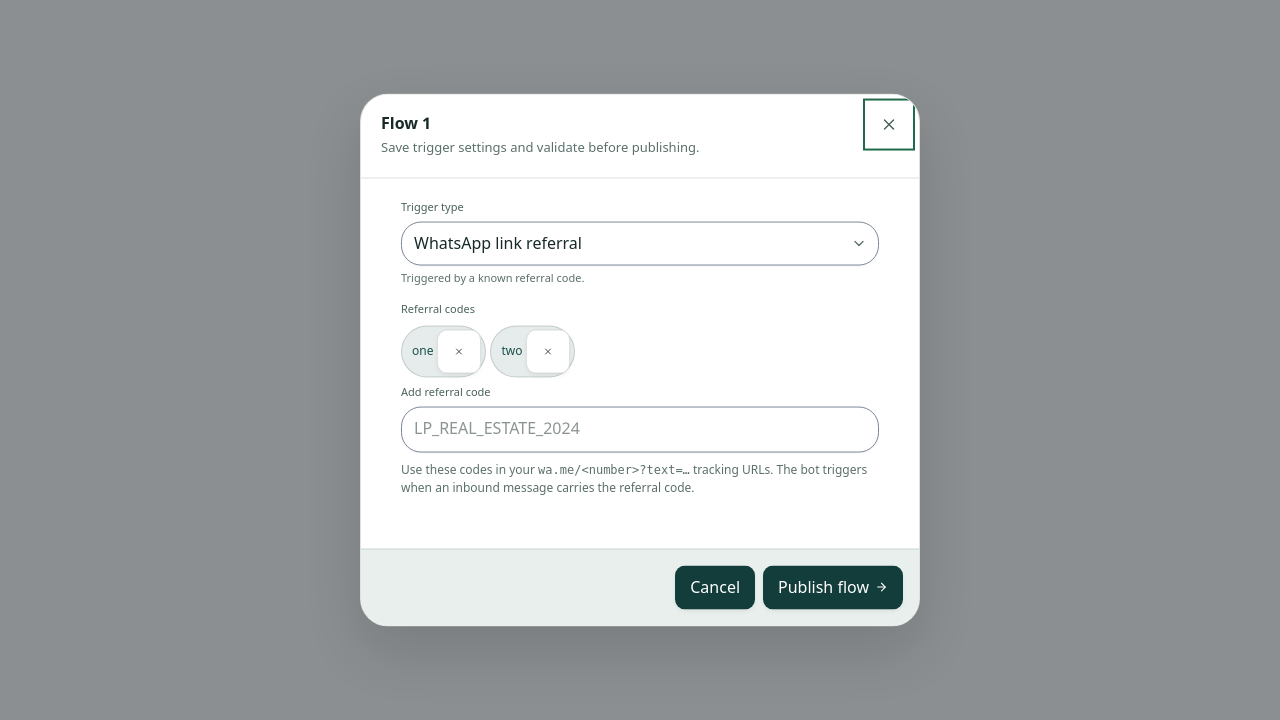
Test: referral_link entry order and unknown config fields survive failed save
Type "three" into the field labelled "Add referral code" at (640, 429), box [402,407,878,451]
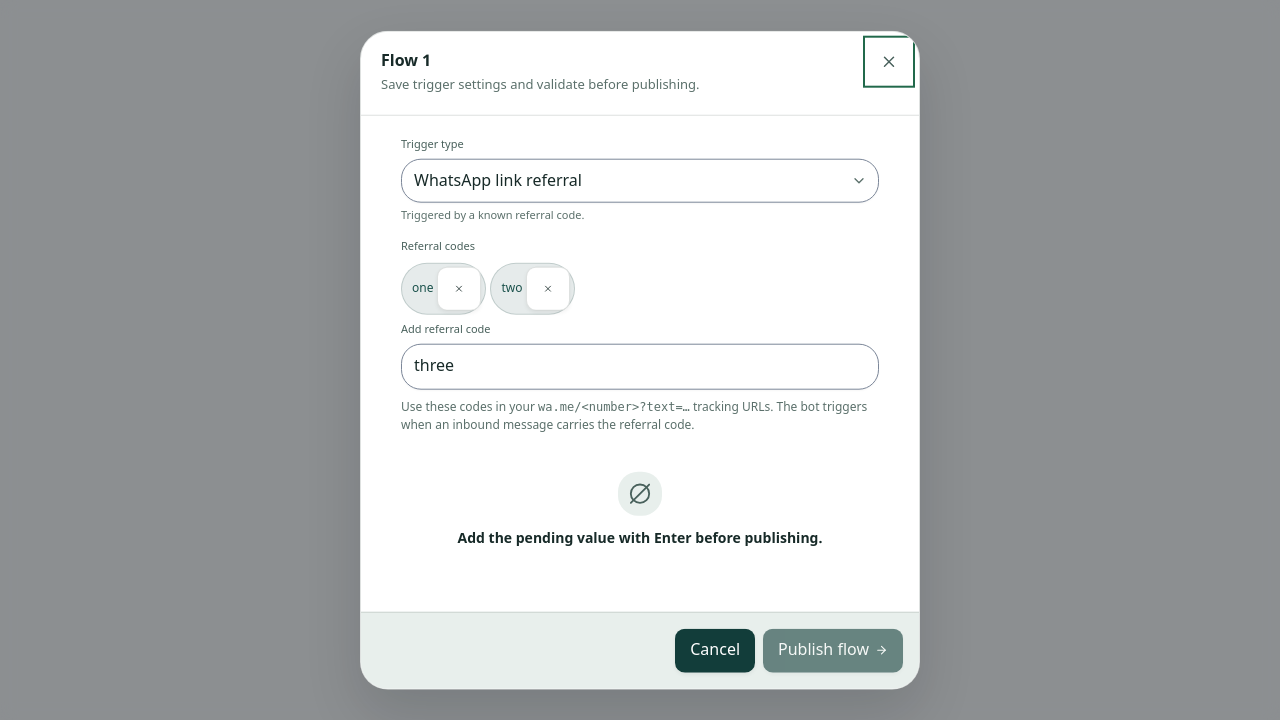
Press Enter in the field labelled "Add referral code", box [402,344,878,388]
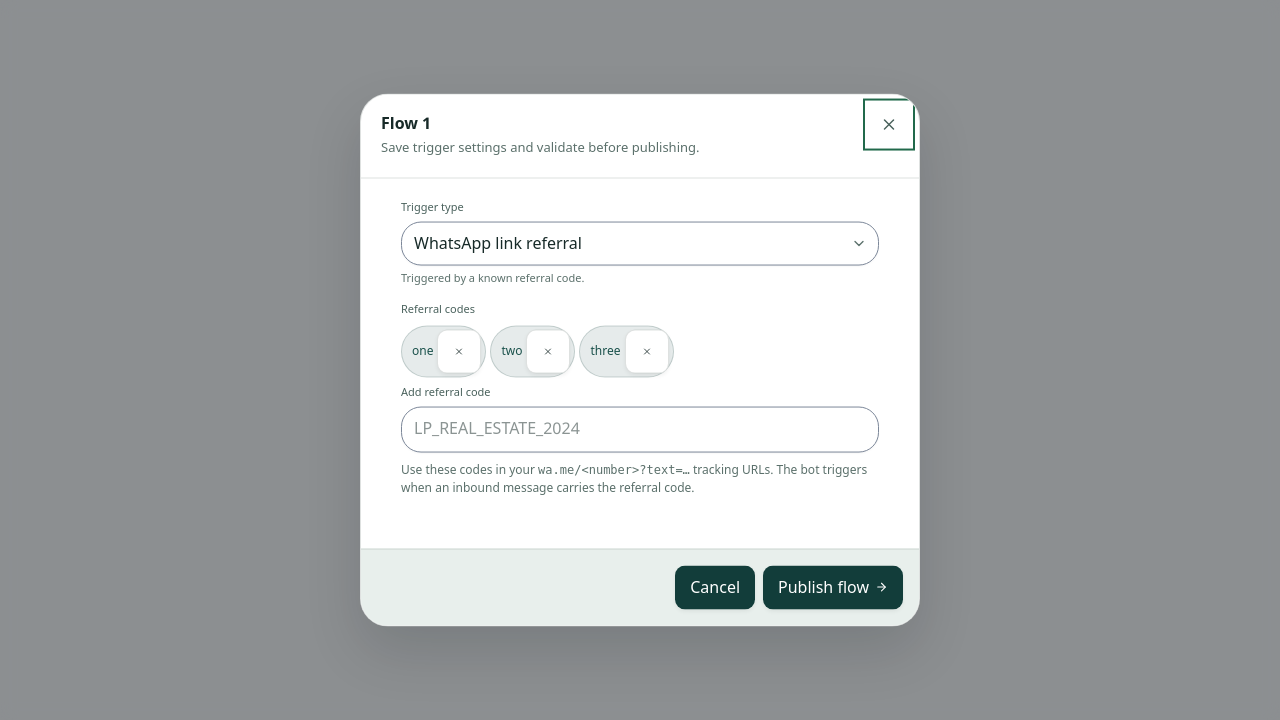
Click the button "Publish flow" at (833, 588), box [763,566,903,610]
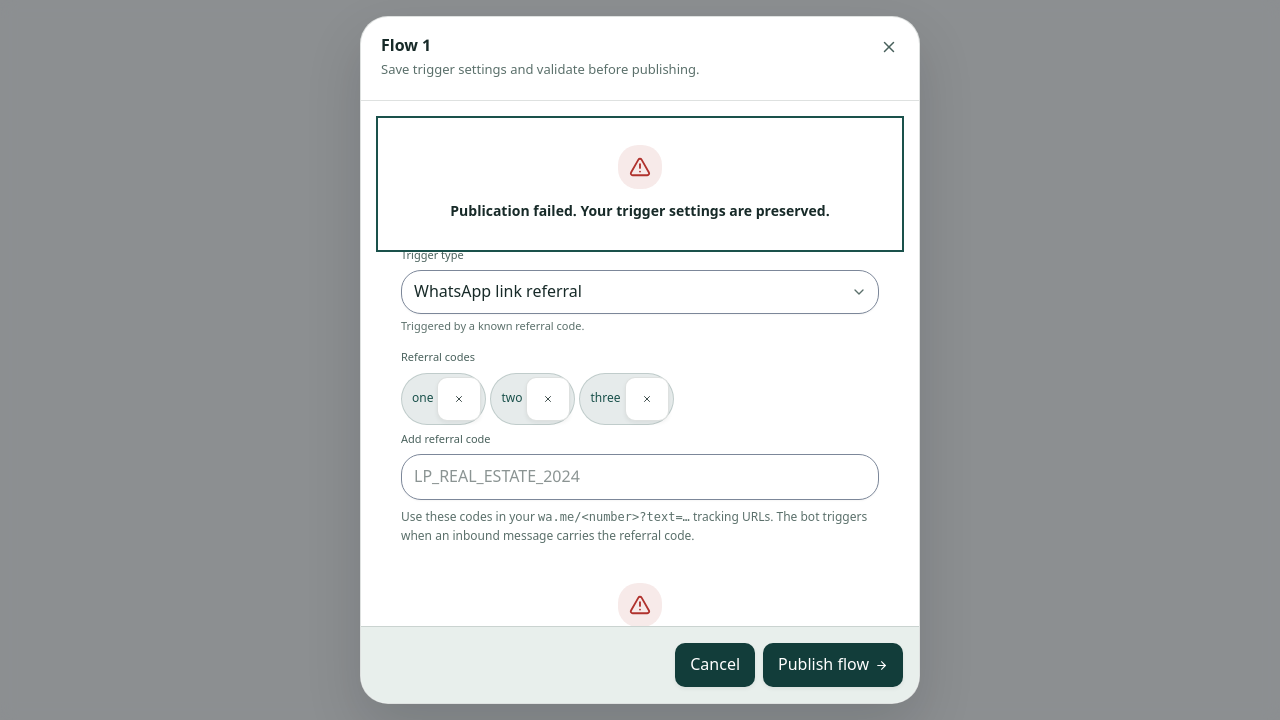
Check: the text "Publication failed. Your trigger settings are preserved." is shown, box [450,201,830,223]
